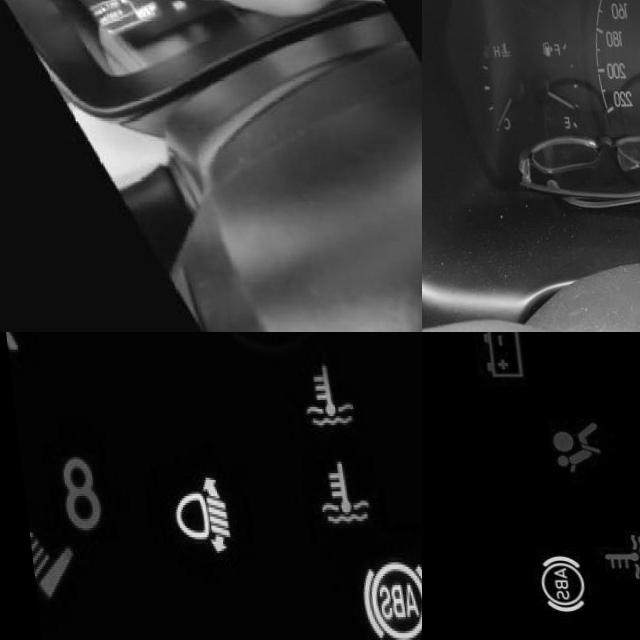Engine cooling system: (308, 454, 371, 530)
High Engine Coolant Temperature: (578, 526, 640, 587)
